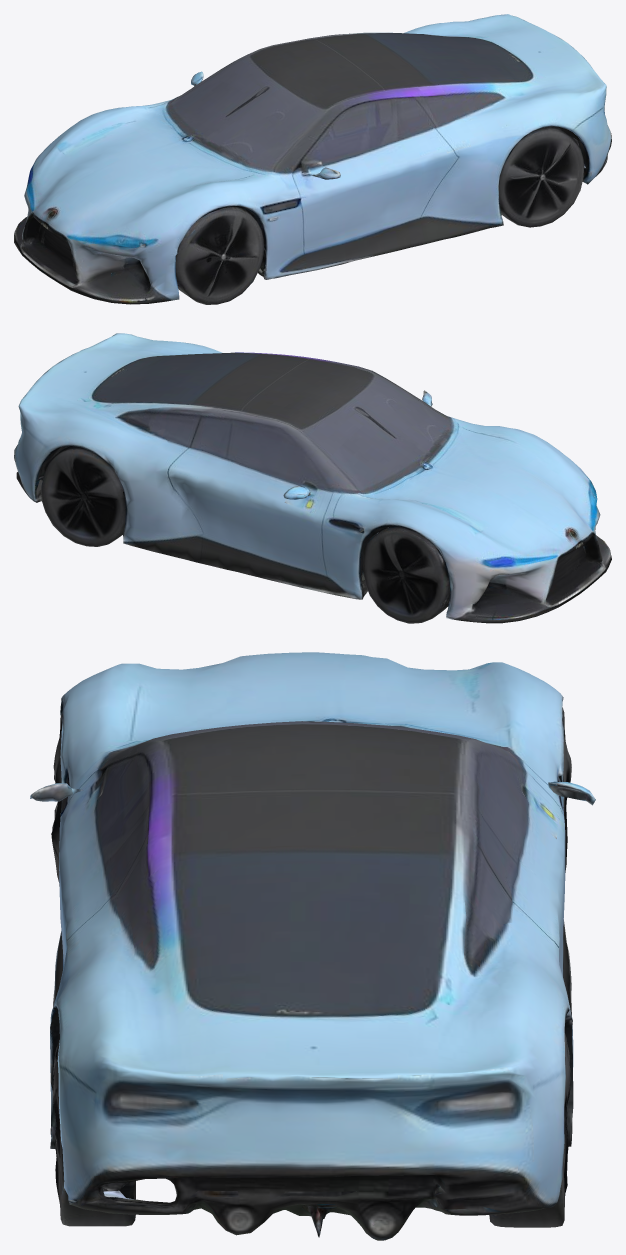
File: dk-meshy-matra-laser.glb
The picture shows the model from 3 angles, top to bottom: view 1: azimuth 30°, elevation 25°; view 2: azimuth 150°, elevation 25°; view 3: azimuth 270°, elevation 25°; orthographic projection. The views are drawn at different scales.
Bounding box in the file's own units: 1.98 × 0.5456 × 0.9118.
Materials: 1 (1 with a texture image).
